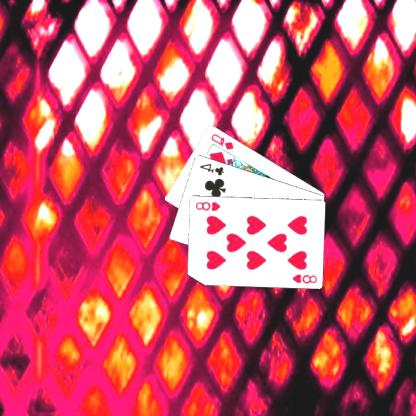4C: (198, 160, 228, 176)
8H: (194, 198, 224, 212), (291, 271, 320, 285)
QD: (210, 131, 237, 151)
